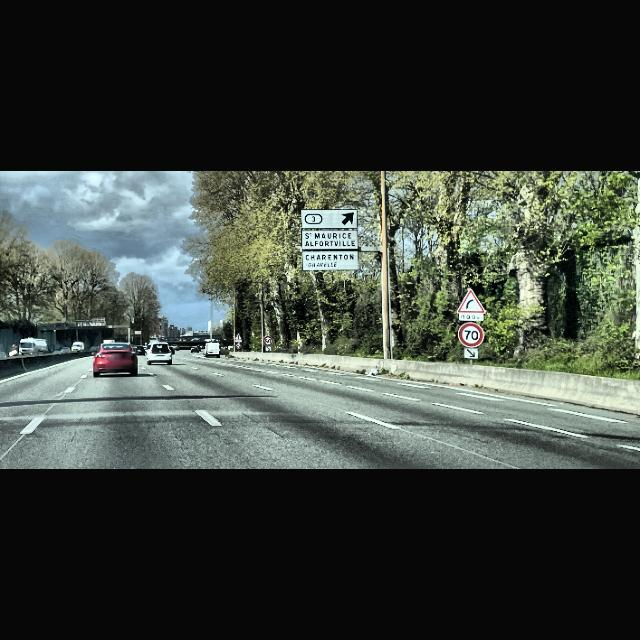speed_70: (457, 324, 485, 348)
